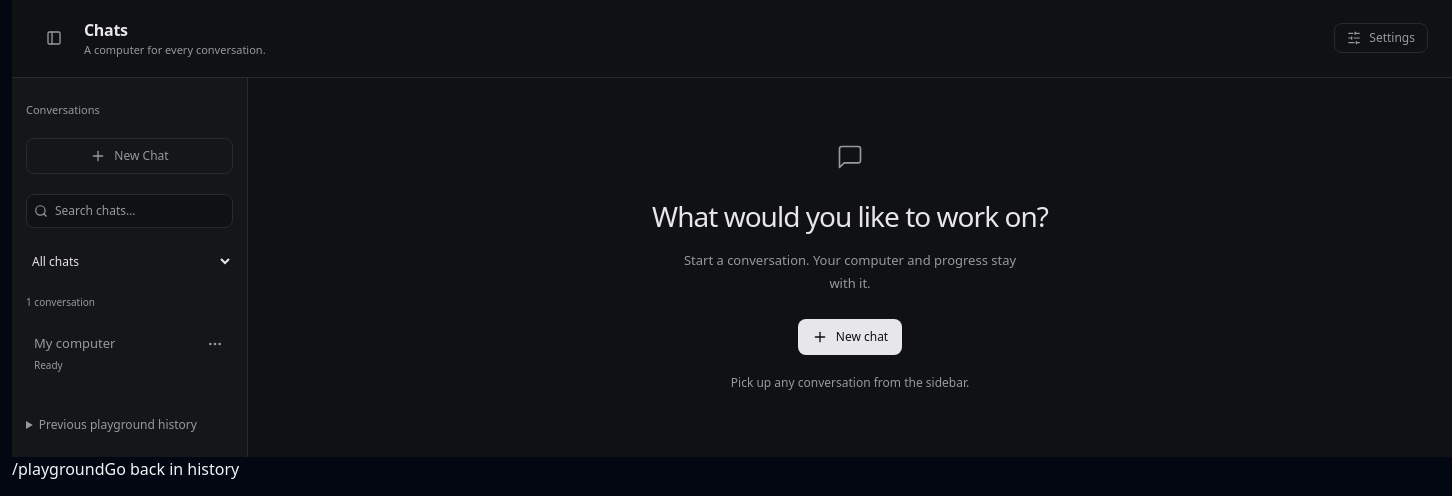
Test: durable chat workspace integration › closes the conversation drawer after selecting a chat in a narrow window
Click the text "My computer".
click(75, 344)  # box top-left (34, 334), bottom-right (116, 354)
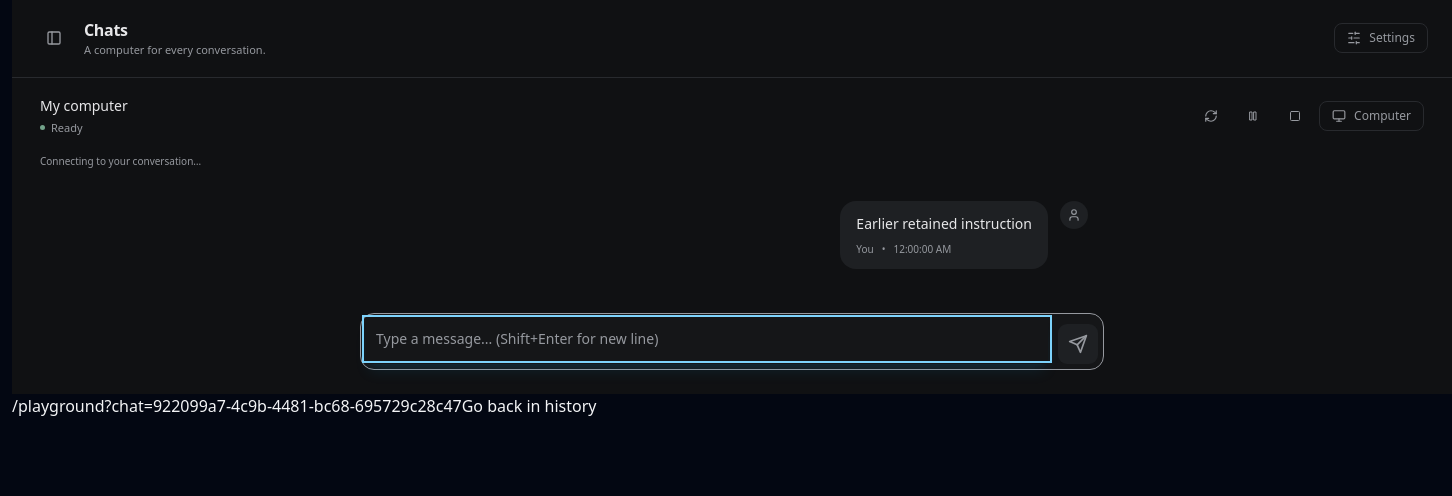
Expected: the text box named "Chat message" is shown, top-left (366, 319), bottom-right (1048, 359)
Click the button named "Show conversations".
click(54, 38)  # box top-left (36, 20), bottom-right (72, 56)
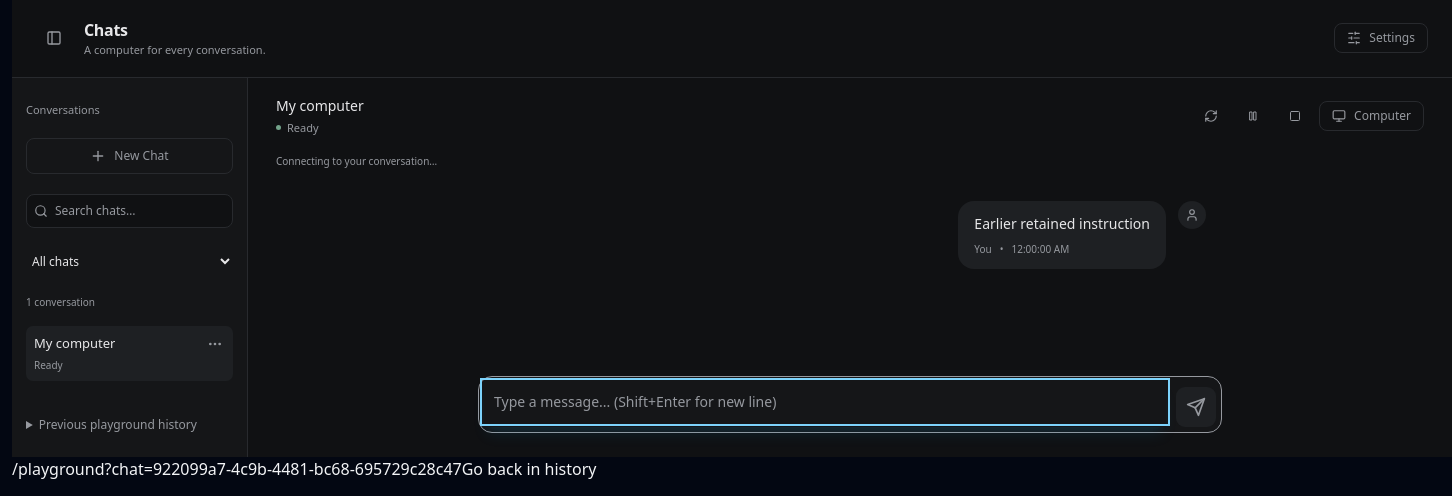
Expected: the element named "Computer conversations" is shown, top-left (12, 78), bottom-right (248, 456)
